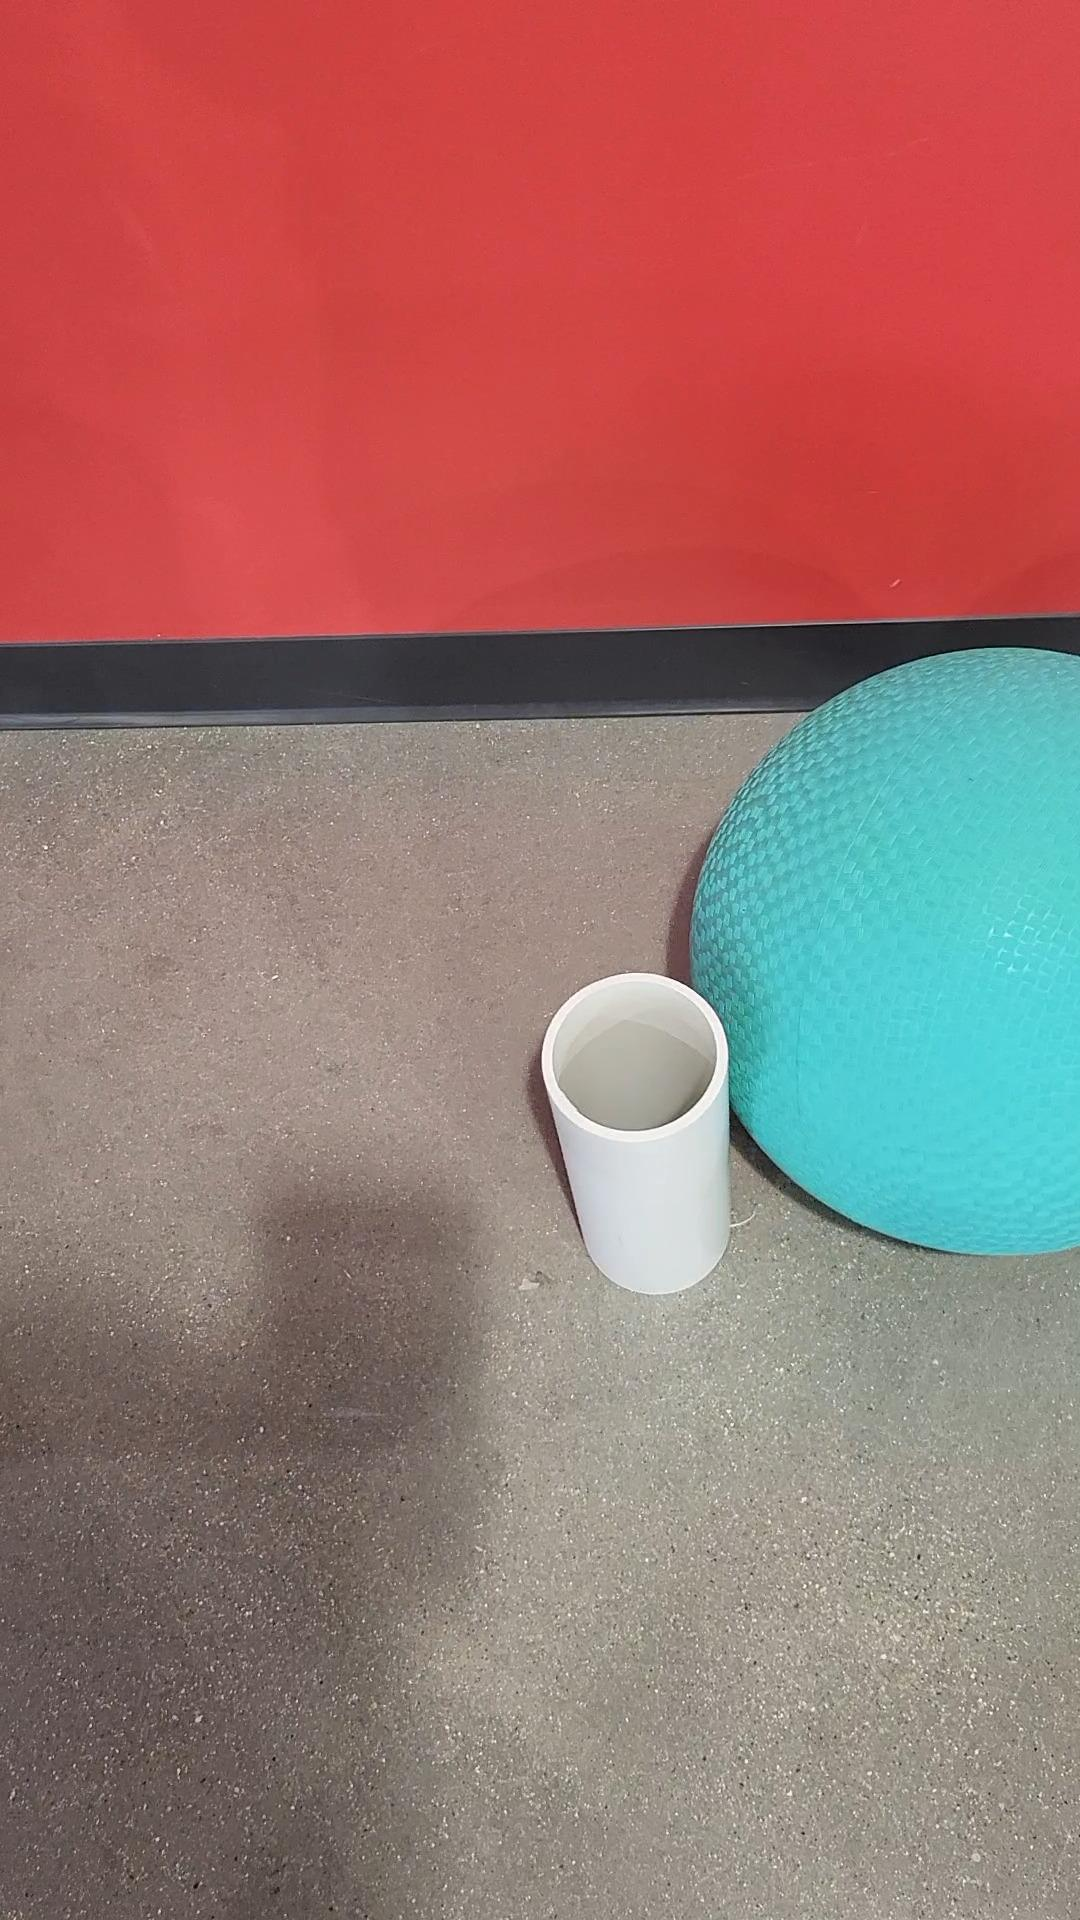algae: (692, 645, 1079, 1257)
coral: (542, 969, 727, 1294)
